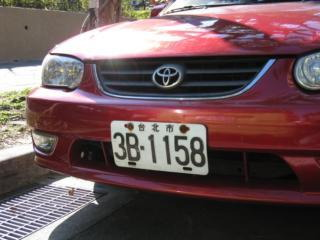plate: (106, 116, 209, 176)
